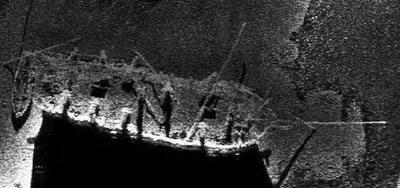ship: (32, 47, 277, 157), (10, 49, 38, 119)
